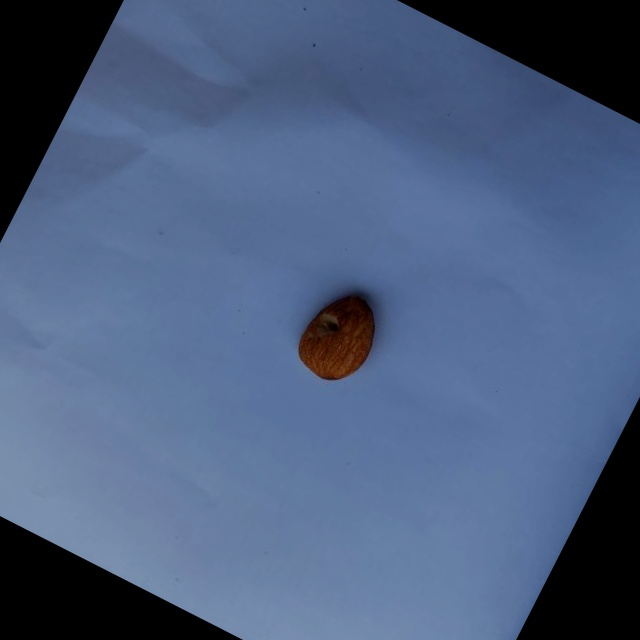grade3: (282, 275, 394, 397)
